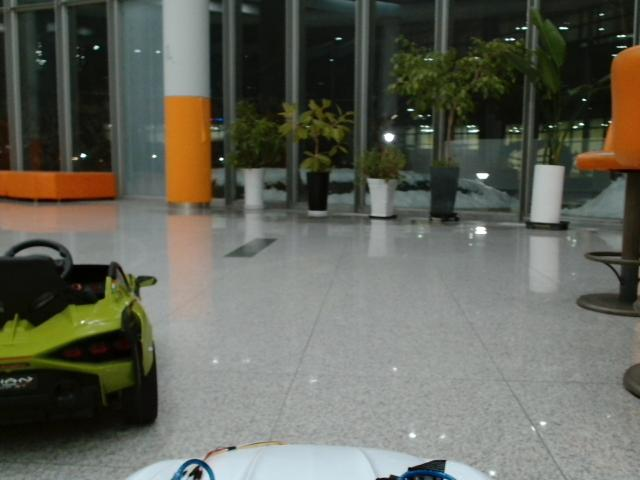car: (1, 240, 158, 449)
